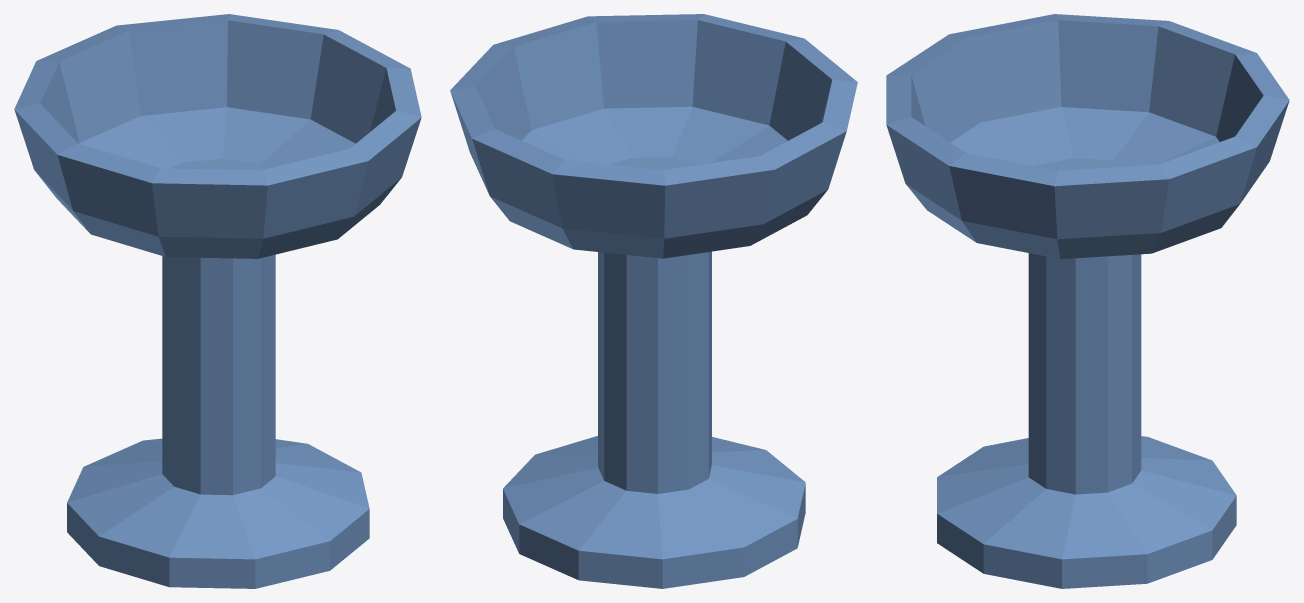
Rendered from birdbath.glb.
The picture shows the model from 3 angles, left to right: view 1: azimuth 30°, elevation 25°; view 2: azimuth 150°, elevation 25°; view 3: azimuth 270°, elevation 25°; orthographic projection.
Visible parts, largest first — view 1: Cylinder; view 2: Cylinder; view 3: Cylinder.
Boxes of the visible parts, x1=… form: Cylinder: x1=14, y1=14, x2=421, y2=588; Cylinder: x1=450, y1=14, x2=857, y2=588; Cylinder: x1=886, y1=14, x2=1289, y2=588.
Size of the model in its own units: 0.8766 by 1.02 by 0.8677.
